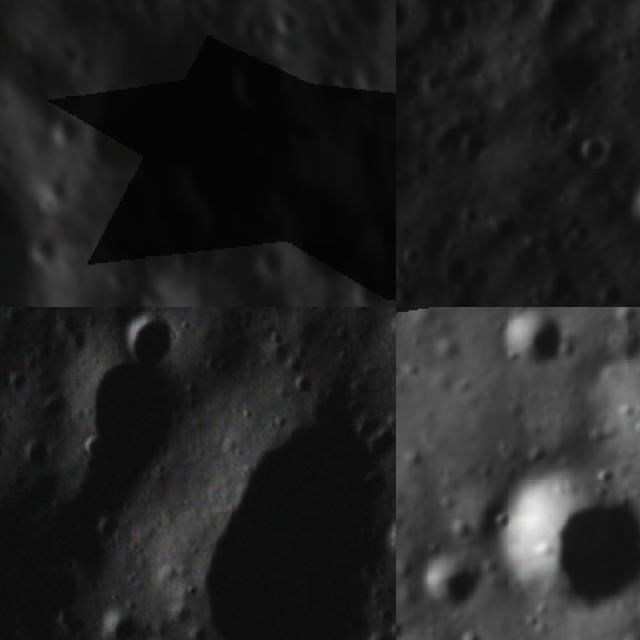crater: (179, 393, 396, 640), (489, 467, 640, 614), (59, 332, 215, 468), (0, 461, 117, 640), (174, 222, 291, 307), (493, 307, 566, 377), (112, 307, 192, 367), (222, 46, 291, 113), (415, 552, 483, 612), (282, 109, 325, 156), (574, 134, 620, 175), (20, 426, 63, 468), (322, 178, 367, 218), (254, 241, 292, 287), (356, 264, 396, 307), (33, 235, 67, 277), (99, 604, 138, 640), (291, 359, 324, 395), (40, 384, 69, 422), (264, 332, 296, 366), (330, 64, 363, 95), (0, 307, 31, 337), (365, 620, 396, 640), (0, 404, 14, 443)
